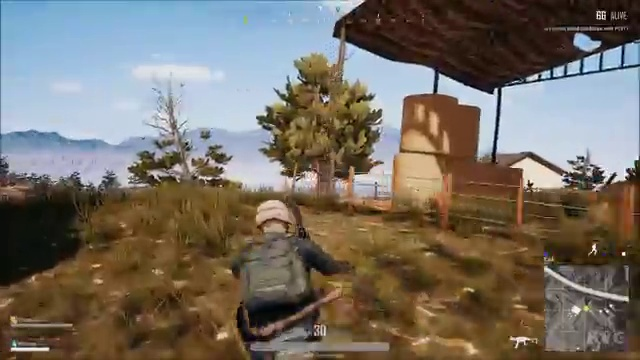Player: (189, 194, 381, 324)
